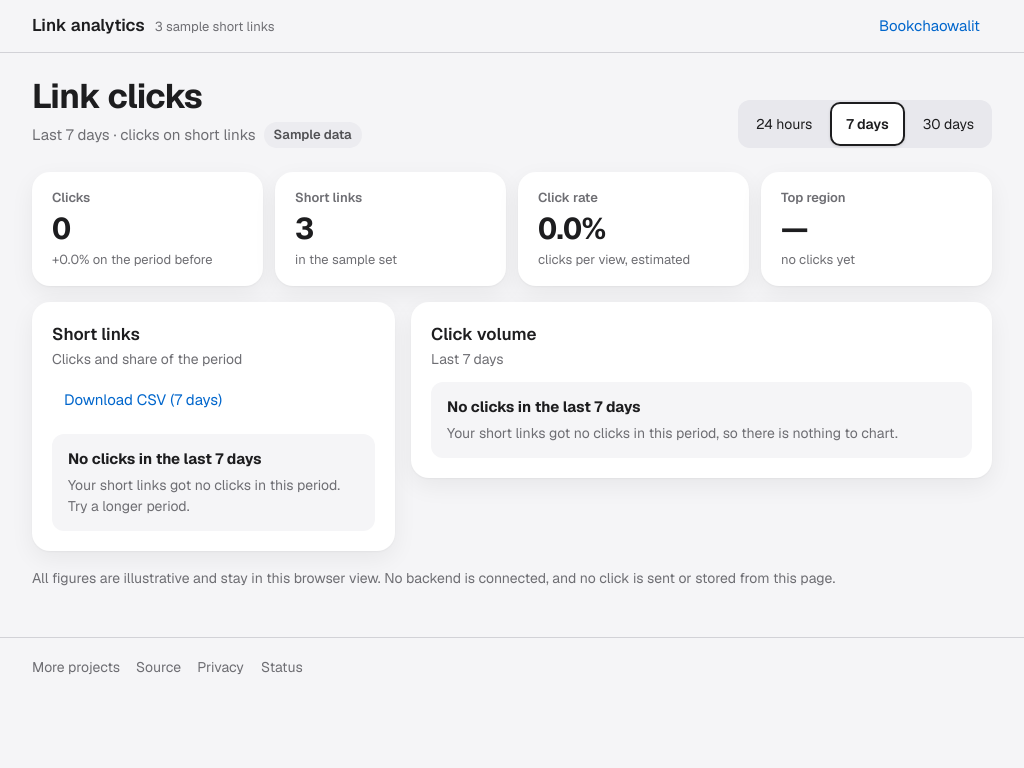
Test case: link analytics empty states › says a period had no clicks instead of drawing a flat chart, and recovers on a busy period
Click the button "30 days" at coordinates (948, 124), box [907, 102, 990, 146]
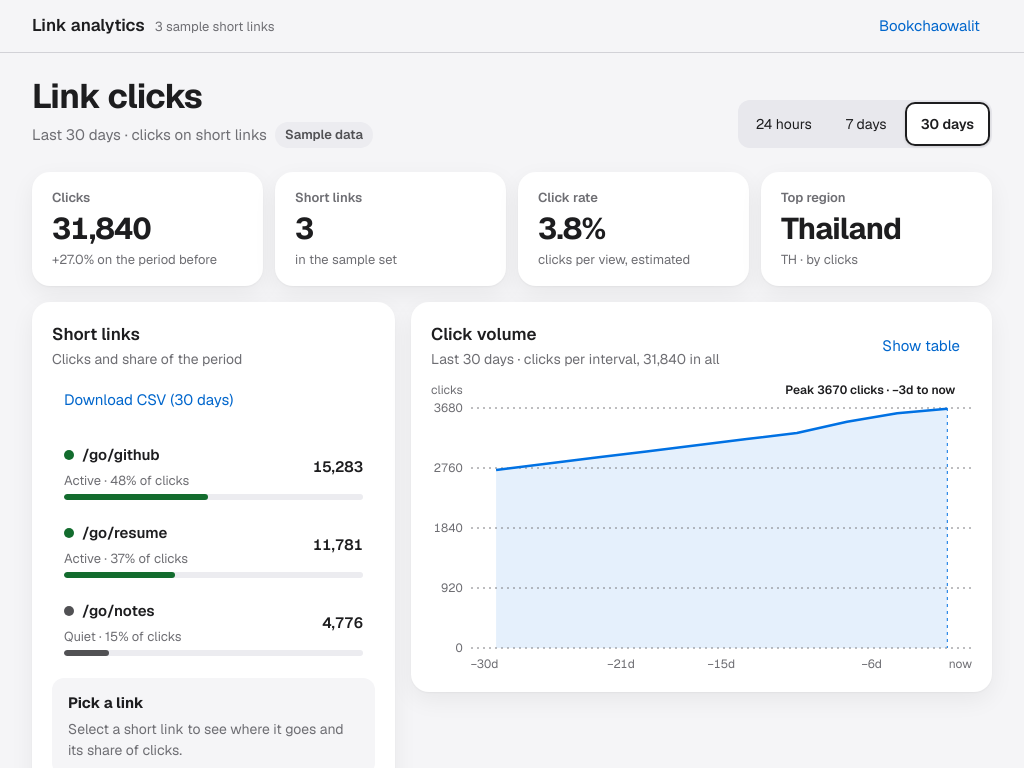
expect the element with class "ds-chart" is shown: met, box [431, 382, 972, 672]
expect the number of buttons with class "ds-row" is 3: met, box [52, 434, 375, 510]; [52, 512, 375, 588]; [52, 590, 375, 666]
